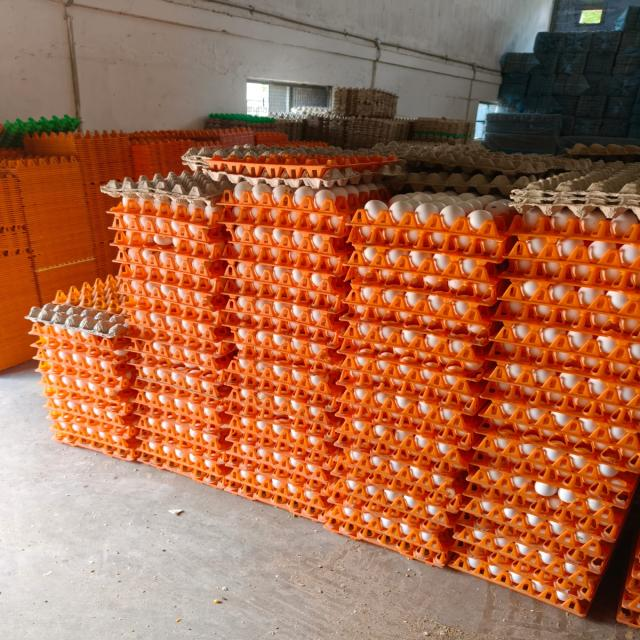egg_tray: (454, 362, 637, 614), (225, 183, 343, 521), (453, 416, 636, 614), (330, 328, 482, 564), (118, 200, 233, 482), (330, 354, 481, 565), (490, 274, 639, 470), (490, 276, 639, 470), (329, 378, 479, 565), (452, 460, 625, 615), (453, 469, 623, 614), (347, 193, 509, 344), (225, 182, 357, 363), (225, 314, 339, 520), (469, 403, 637, 540), (455, 467, 625, 598), (338, 336, 486, 486), (496, 212, 639, 367), (225, 329, 340, 519), (470, 400, 637, 526), (334, 385, 478, 531), (225, 183, 357, 334), (474, 389, 637, 508), (115, 200, 228, 367), (489, 305, 639, 426), (481, 364, 639, 474), (326, 442, 463, 565), (226, 274, 340, 418), (338, 319, 487, 428), (342, 247, 504, 345), (226, 357, 339, 497), (347, 246, 503, 343), (473, 433, 637, 523), (222, 391, 335, 521), (30, 323, 138, 459), (339, 280, 493, 375), (450, 520, 601, 616), (457, 483, 616, 574), (337, 375, 482, 473), (331, 421, 463, 526), (224, 401, 337, 521), (334, 421, 463, 526), (338, 374, 482, 468), (348, 233, 501, 315), (134, 355, 229, 484), (491, 304, 639, 386), (137, 356, 228, 485), (225, 182, 357, 270), (504, 208, 639, 294), (0, 150, 98, 268), (349, 192, 511, 262), (113, 198, 227, 295), (224, 254, 347, 343), (325, 480, 452, 566), (133, 343, 229, 454), (348, 242, 498, 311), (121, 277, 232, 368), (117, 249, 225, 339), (220, 182, 389, 239), (495, 273, 639, 339), (226, 355, 339, 437), (225, 409, 338, 490), (494, 276, 639, 339), (338, 353, 485, 415), (225, 261, 347, 335), (225, 341, 339, 420), (490, 321, 639, 381), (356, 191, 510, 249), (224, 296, 341, 371), (220, 182, 390, 232), (225, 354, 335, 431), (338, 321, 489, 377), (138, 392, 228, 485), (30, 322, 132, 402), (32, 322, 132, 401), (221, 447, 327, 521), (225, 354, 341, 419), (372, 140, 590, 174), (111, 194, 226, 257), (224, 261, 350, 318), (130, 303, 234, 370), (130, 301, 232, 369), (117, 249, 225, 313), (223, 254, 348, 308), (205, 153, 401, 187), (45, 386, 137, 457), (135, 356, 228, 425), (130, 308, 234, 369), (221, 463, 326, 522), (100, 170, 229, 218), (229, 316, 341, 370), (111, 194, 222, 248), (226, 242, 348, 291), (226, 296, 342, 343), (205, 164, 403, 190), (26, 130, 130, 178), (183, 142, 343, 173), (510, 204, 639, 242), (511, 180, 639, 218), (47, 408, 139, 460), (207, 153, 397, 178), (138, 437, 228, 486), (227, 262, 343, 300), (26, 295, 127, 338), (48, 413, 139, 460), (132, 356, 227, 398), (114, 227, 226, 260), (184, 139, 344, 160), (406, 171, 535, 197), (139, 126, 254, 154), (53, 275, 121, 314), (131, 138, 194, 176), (0, 167, 28, 248), (618, 535, 639, 628), (343, 182, 393, 206), (567, 143, 639, 158), (532, 217, 582, 234), (562, 288, 608, 306), (563, 288, 608, 305), (627, 537, 639, 596), (216, 127, 254, 145), (181, 402, 211, 419), (611, 224, 637, 243), (333, 486, 354, 509), (254, 131, 288, 145), (582, 378, 605, 398), (529, 368, 557, 384), (434, 376, 466, 390), (179, 272, 211, 286), (617, 608, 639, 628), (613, 225, 637, 242), (189, 401, 221, 412), (415, 498, 437, 512), (589, 421, 606, 437), (188, 282, 212, 293), (261, 267, 280, 280), (497, 528, 506, 554), (385, 292, 403, 304), (381, 494, 398, 506), (563, 217, 578, 230), (610, 296, 624, 309), (519, 535, 535, 546), (587, 240, 604, 250), (158, 429, 182, 436), (484, 243, 499, 254), (452, 379, 467, 390), (420, 119, 443, 126), (229, 263, 251, 270), (623, 390, 634, 403), (606, 243, 619, 254), (598, 221, 611, 232), (388, 227, 401, 238), (331, 187, 343, 198), (555, 174, 563, 189), (588, 241, 603, 249), (449, 379, 461, 389), (460, 237, 469, 250), (110, 301, 120, 312), (598, 221, 610, 230), (125, 251, 135, 261), (629, 601, 639, 611), (498, 540, 507, 550), (133, 265, 140, 277), (455, 482, 463, 492), (174, 258, 182, 268), (380, 354, 388, 364), (193, 208, 203, 216), (587, 499, 597, 507), (442, 196, 455, 202), (174, 293, 183, 301), (466, 422, 474, 431), (534, 219, 548, 224), (230, 224, 237, 234), (171, 452, 181, 459), (123, 236, 133, 243), (620, 356, 627, 366), (384, 361, 394, 368), (238, 267, 245, 277), (214, 120, 227, 125), (514, 260, 522, 268), (56, 292, 65, 299), (3, 180, 10, 189), (550, 285, 565, 289), (623, 243, 635, 248), (164, 261, 170, 271), (440, 376, 450, 382), (377, 249, 384, 257), (597, 559, 605, 566), (313, 314, 321, 321), (275, 234, 282, 242), (225, 286, 232, 294), (501, 363, 510, 369), (569, 237, 582, 241), (547, 332, 560, 336), (505, 302, 522, 305), (606, 248, 616, 253), (488, 385, 495, 392), (312, 239, 319, 246), (443, 446, 451, 452), (309, 348, 315, 356), (253, 265, 261, 271), (121, 266, 129, 272), (244, 445, 253, 450), (265, 334, 276, 338), (550, 285, 564, 288), (412, 273, 419, 279), (282, 273, 289, 279), (506, 412, 513, 418), (558, 238, 566, 243), (626, 387, 632, 393), (197, 296, 203, 302), (517, 469, 526, 473), (572, 344, 581, 348), (631, 183, 636, 190), (342, 494, 349, 499), (423, 536, 430, 541), (292, 270, 297, 277), (518, 414, 523, 421), (518, 328, 525, 333), (505, 302, 522, 304), (190, 397, 201, 400), (485, 548, 493, 552), (147, 445, 155, 449), (263, 271, 271, 275), (556, 296, 561, 302), (522, 283, 528, 288), (306, 342, 312, 347), (386, 363, 392, 368), (413, 368, 419, 373), (519, 387, 526, 391), (509, 370, 516, 374), (423, 237, 430, 241), (190, 309, 197, 313), (214, 284, 221, 288), (346, 361, 353, 365), (406, 495, 413, 499), (457, 544, 464, 548), (132, 318, 141, 321), (516, 365, 521, 370), (550, 218, 555, 223), (281, 252, 286, 257), (418, 476, 422, 482), (254, 208, 258, 214), (218, 264, 221, 272), (371, 374, 377, 378), (350, 187, 356, 191), (129, 193, 136, 196), (497, 223, 501, 228), (276, 308, 281, 312), (553, 529, 558, 533), (143, 392, 148, 396), (583, 302, 588, 306), (497, 414, 502, 418), (490, 460, 494, 465), (469, 379, 474, 383), (618, 513, 623, 517), (627, 243, 633, 246), (195, 262, 198, 268), (630, 452, 636, 455), (368, 431, 371, 437), (271, 315, 277, 318), (560, 490, 563, 496), (587, 300, 591, 304), (590, 566, 594, 570), (240, 304, 244, 308), (559, 528, 563, 532), (496, 314, 500, 318), (515, 260, 517, 268), (281, 309, 285, 313), (257, 264, 261, 268), (256, 238, 260, 242), (297, 236, 301, 240), (158, 452, 161, 457), (117, 237, 122, 240), (578, 245, 583, 248), (351, 187, 356, 190), (173, 272, 178, 275), (201, 163, 206, 166), (455, 312, 460, 315), (294, 241, 299, 244), (631, 274, 636, 277), (518, 470, 525, 472), (455, 505, 459, 508), (610, 163, 614, 166), (600, 453, 604, 456), (614, 244, 618, 247), (204, 308, 207, 312), (340, 268, 343, 272), (225, 346, 228, 350), (114, 222, 117, 226), (490, 572, 494, 575), (41, 365, 45, 368), (12, 213, 15, 217), (472, 383, 478, 385), (114, 223, 118, 226), (386, 327, 391, 329), (360, 323, 362, 328), (564, 416, 569, 418), (348, 198, 350, 203), (474, 372, 476, 377), (577, 381, 580, 384), (563, 184, 566, 187), (488, 527, 491, 530), (502, 388, 505, 391), (527, 445, 530, 448), (243, 282, 246, 285), (305, 254, 308, 257), (281, 343, 284, 346), (523, 285, 526, 288), (154, 340, 157, 343), (547, 229, 550, 232), (414, 368, 417, 371), (353, 357, 356, 360), (247, 398, 250, 401), (132, 420, 135, 423), (46, 403, 49, 406), (530, 286, 534, 288), (95, 179, 99, 181), (621, 514, 623, 518), (298, 271, 302, 273), (232, 456, 236, 458), (375, 430, 377, 434), (616, 371, 620, 373), (457, 121, 465, 122), (263, 308, 265, 312), (127, 414, 131, 416), (610, 428, 617, 429), (325, 276, 332, 277), (549, 387, 551, 390), (545, 304, 548, 306), (584, 303, 586, 306), (569, 381, 575, 382), (487, 284, 490, 286), (563, 556, 565, 559), (363, 300, 365, 303), (350, 326, 353, 328), (510, 406, 513, 408), (501, 405, 503, 408), (530, 286, 533, 288), (159, 335, 161, 338), (404, 531, 407, 533), (385, 525, 387, 528), (502, 388, 505, 390), (635, 248, 637, 251), (572, 248, 574, 251), (619, 250, 621, 253), (258, 320, 261, 322), (478, 383, 481, 385), (389, 364, 392, 366), (317, 344, 320, 346), (617, 366, 620, 368), (298, 307, 301, 309), (276, 267, 279, 269), (14, 187, 15, 193), (438, 509, 440, 512), (570, 238, 575, 239), (390, 467, 392, 469), (427, 337, 429, 339), (533, 283, 535, 285), (622, 391, 624, 393), (373, 482, 375, 484), (559, 240, 563, 241), (540, 410, 542, 412), (161, 260, 163, 262), (548, 511, 550, 513), (618, 429, 622, 430), (303, 338, 305, 340), (348, 513, 350, 515), (275, 486, 277, 488), (123, 232, 127, 233), (619, 247, 621, 249), (563, 214, 565, 216), (192, 168, 194, 170), (532, 344, 534, 346), (397, 380, 399, 382), (445, 122, 447, 124), (244, 277, 246, 279), (482, 401, 485, 402), (502, 383, 505, 384), (598, 572, 599, 575), (485, 544, 486, 547), (579, 245, 582, 246), (214, 147, 217, 148), (199, 142, 202, 143), (342, 285, 343, 288), (235, 247, 238, 248), (243, 281, 246, 282), (178, 399, 181, 400), (423, 387, 426, 388), (151, 429, 154, 430), (150, 267, 153, 268), (434, 194, 437, 195), (487, 429, 490, 430), (467, 443, 468, 446), (316, 247, 319, 248), (625, 392, 628, 393), (554, 296, 556, 297), (252, 426, 253, 428), (377, 456, 379, 457), (576, 304, 577, 306), (316, 298, 317, 300), (498, 403, 500, 404), (502, 381, 503, 383), (579, 240, 581, 241), (72, 288, 74, 289), (64, 373, 66, 374), (344, 252, 346, 253), (170, 310, 171, 312), (380, 497, 381, 499), (507, 418, 508, 420), (493, 405, 495, 406), (188, 225, 190, 226), (259, 332, 261, 333), (537, 305, 539, 306), (374, 500, 375, 502), (125, 274, 127, 275), (634, 258, 635, 260), (239, 176, 241, 177), (430, 389, 432, 390), (395, 380, 397, 381), (346, 358, 348, 359), (365, 195, 367, 196), (396, 469, 398, 470), (638, 273, 639, 275), (481, 554, 483, 555), (529, 387, 530, 388), (531, 314, 532, 315), (538, 305, 539, 306), (512, 287, 513, 288), (531, 390, 532, 391), (400, 258, 401, 259), (516, 540, 517, 541), (618, 396, 619, 397), (347, 492, 348, 493), (580, 223, 581, 224), (165, 229, 166, 230), (631, 405, 632, 406), (520, 411, 521, 412), (274, 327, 275, 328), (489, 196, 490, 197), (396, 196, 397, 197), (431, 378, 432, 379), (602, 163, 603, 164), (449, 387, 450, 388), (133, 417, 134, 418), (541, 405, 541, 406), (526, 394, 528, 394), (576, 310, 577, 310), (567, 306, 568, 306), (237, 336, 240, 336), (353, 188, 354, 188), (568, 494, 568, 494), (543, 494, 543, 494), (506, 476, 506, 477), (565, 378, 565, 379), (485, 554, 485, 554), (398, 516, 399, 516), (338, 503, 341, 503), (183, 161, 183, 164), (76, 290, 76, 290), (294, 194, 294, 196), (133, 312, 134, 312), (531, 450, 532, 450), (299, 301, 299, 301), (256, 283, 257, 283), (618, 434, 619, 434), (238, 336, 240, 336), (189, 352, 190, 352), (389, 512, 390, 512), (438, 530, 439, 530), (341, 484, 341, 486), (336, 292, 338, 292), (291, 288, 292, 288), (621, 249, 621, 250), (556, 234, 557, 234), (596, 230, 597, 230), (592, 230, 593, 230), (561, 596, 561, 599), (576, 490, 577, 490), (294, 141, 294, 142), (298, 141, 299, 141), (398, 381, 399, 381), (563, 356, 563, 357), (519, 336, 522, 336), (485, 432, 485, 432), (362, 154, 363, 154), (349, 154, 350, 154), (431, 130, 432, 130), (321, 323, 321, 324), (285, 314, 285, 315), (96, 230, 97, 230), (471, 421, 472, 421), (492, 241, 492, 241), (481, 401, 485, 401), (461, 394, 466, 394), (612, 270, 617, 270), (490, 538, 490, 539)
